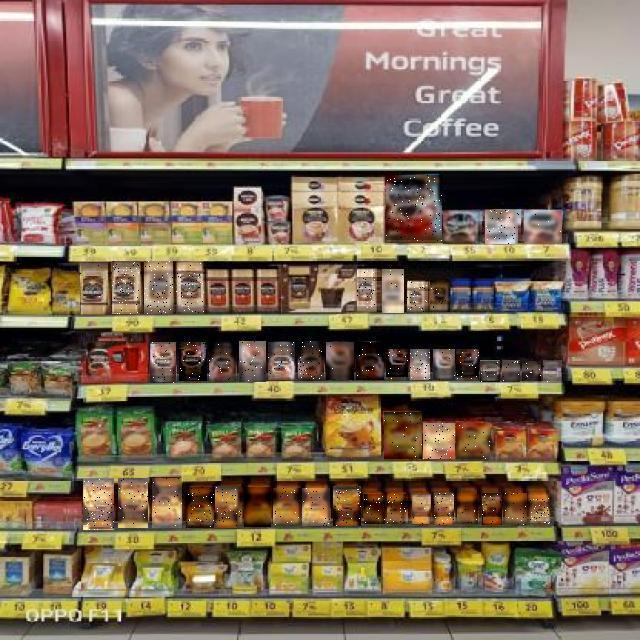Coffee: (386, 176, 442, 242), (384, 412, 422, 459), (83, 478, 114, 530), (144, 261, 173, 314), (153, 478, 183, 528), (118, 478, 148, 528), (112, 261, 140, 314), (176, 261, 204, 314), (80, 262, 108, 315), (524, 210, 562, 244), (444, 210, 482, 244), (456, 423, 490, 459), (486, 210, 520, 244), (423, 423, 455, 459), (186, 487, 214, 528), (333, 486, 361, 526), (239, 341, 266, 382), (209, 341, 236, 382), (216, 486, 242, 528), (179, 342, 207, 381), (244, 487, 271, 527), (150, 342, 176, 383), (302, 488, 330, 526), (273, 488, 301, 526), (326, 342, 354, 380), (356, 342, 384, 380), (298, 341, 324, 381), (268, 342, 295, 380), (358, 268, 380, 312), (382, 269, 404, 313), (505, 493, 527, 525), (456, 350, 479, 380), (433, 349, 455, 380), (530, 492, 550, 526), (386, 350, 408, 380), (435, 493, 455, 525), (483, 493, 503, 525), (408, 280, 428, 312), (430, 280, 450, 312), (457, 494, 478, 524), (364, 494, 385, 524), (410, 349, 430, 380), (388, 494, 408, 524), (412, 494, 431, 524), (480, 360, 500, 382), (543, 360, 562, 382), (502, 360, 520, 382), (522, 361, 541, 381)
